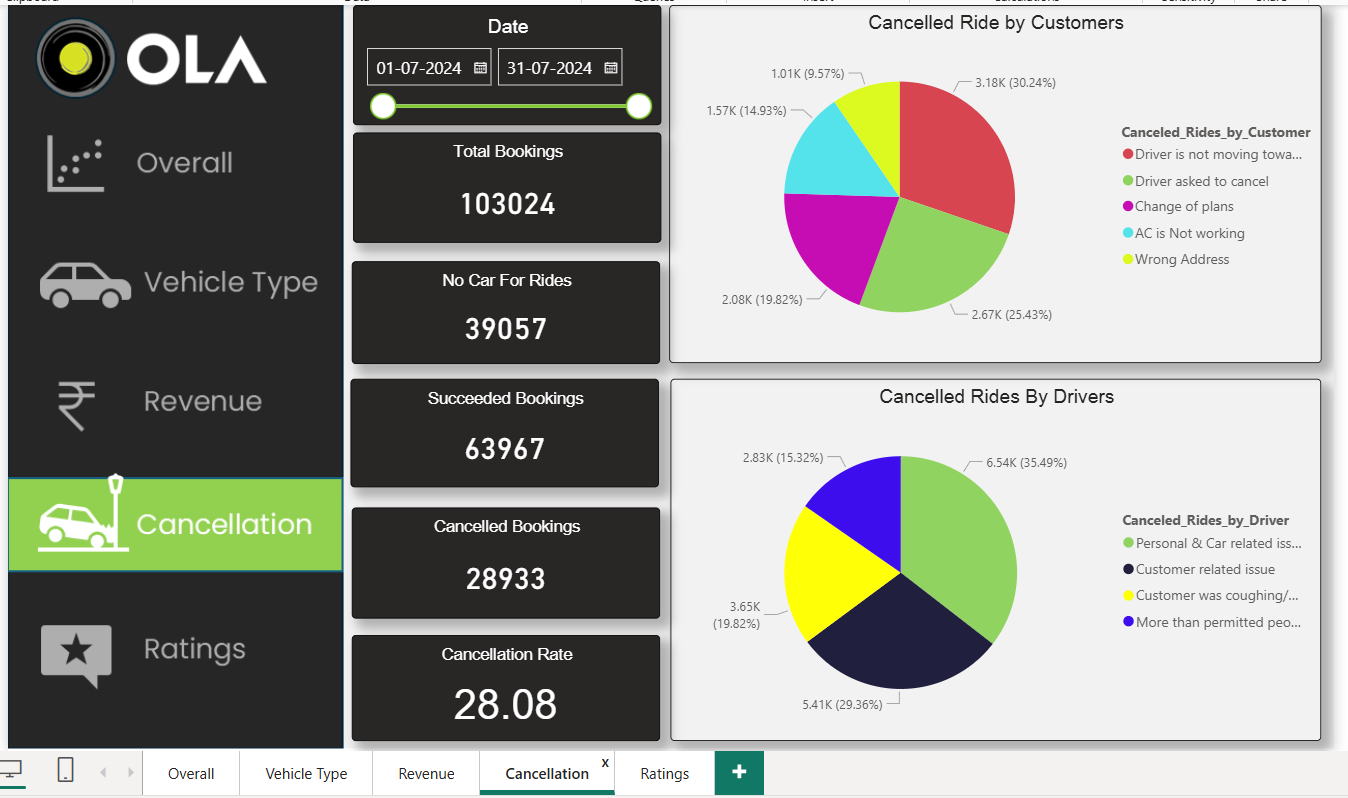

The dashboard page shown, as its layout file describes it:
{"tool":"powerbi","page":{"name":"Cancellation","canvas":[1280,720],"ordinal":3},"visuals":[{"type":"actionButton","box":[0,219.6,323.3,96.5],"z":0},{"type":"actionButton","box":[0,326.9,323.3,102.5],"z":1000},{"type":"actionButton","box":[0,569.4,323.3,102.5],"z":2000},{"type":"actionButton","box":[0,106.2,323.3,102.5],"z":3000},{"type":"pieChart","title":"Cancelled Ride by Customers","fields":{"Category":["Sheet1 (2).Canceled_Rides_by_Customer"],"Y":["CountNonNull(Sheet1 (2).Canceled_Rides_by_Customer)"]},"box":[638.3,0,629.6,345.7],"z":4000},{"type":"pieChart","title":"Cancelled Rides By Drivers","fields":{"Category":["Sheet1 (2).Canceled_Rides_by_Driver"],"Y":["CountNonNull(Sheet1 (2).Canceled_Rides_by_Driver)"]},"box":[639.5,360.5,628.4,349.4],"z":5000},{"type":"slicer","title":"Date","fields":{"Values":["Sheet1 (2).Date"]},"box":[333,0,298,115.8],"z":6000},{"type":"card","title":"No Car For Rides","fields":{"Values":["CountNonNull(Sheet1 (2).Incomplete_Rides)"]},"box":[331.8,247.3,298,98.9],"z":7000},{"type":"card","title":"Succeeded Bookings","fields":{"Values":["CountNonNull(Sheet1 (2).Booking_ID)"]},"box":[330.6,360.7,298,105],"z":8000},{"type":"card","title":"Cancelled Bookings","fields":{"Values":["CountNonNull(Sheet1 (2).Booking_ID)"]},"box":[331.8,485,298,107.4],"z":9000},{"type":"card","title":"Cancellation Rate","fields":{"Values":["Sheet1 (2).CanceledPercentage"]},"box":[331.8,608,298,102.5],"z":10000},{"type":"card","title":"Total Bookings","fields":{"Values":["CountNonNull(Sheet1 (2).Booking_ID)"]},"box":[333,123.1,298,106.2],"z":11000}]}

Visuals, with their boxes in screenshot pixels (x1, y1, x2, y2):
actionButton: <region>4, 228, 339, 328</region>
actionButton: <region>4, 340, 339, 446</region>
actionButton: <region>4, 591, 339, 698</region>
actionButton: <region>4, 110, 339, 217</region>
"Cancelled Ride by Customers" pieChart: <region>666, 0, 1320, 359</region>
"Cancelled Rides By Drivers" pieChart: <region>668, 374, 1320, 737</region>
"Date" slicer: <region>349, 0, 659, 120</region>
"No Car For Rides" card: <region>348, 257, 658, 360</region>
"Succeeded Bookings" card: <region>347, 375, 656, 484</region>
"Cancelled Bookings" card: <region>348, 504, 658, 615</region>
"Cancellation Rate" card: <region>348, 631, 658, 738</region>
"Total Bookings" card: <region>349, 128, 659, 238</region>
